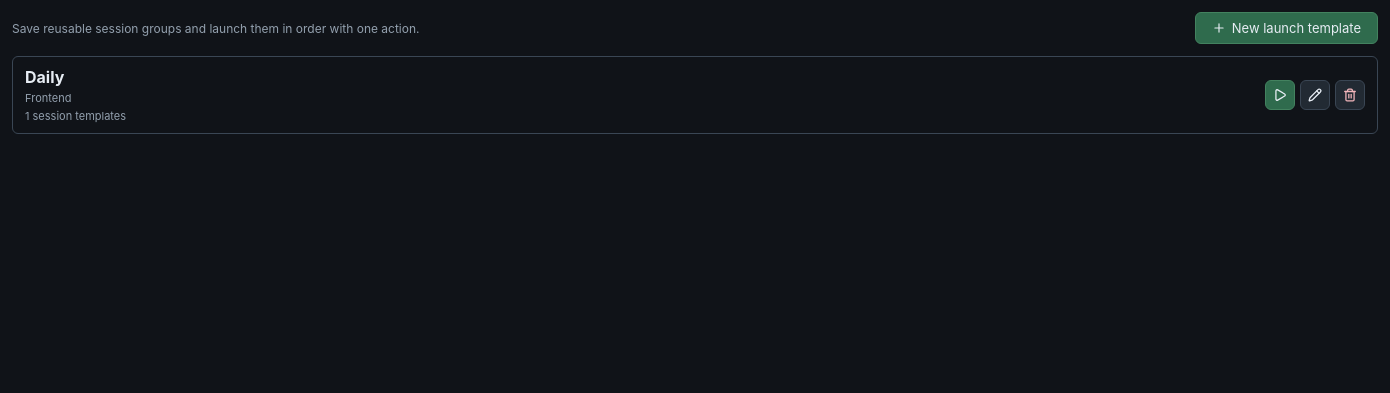
LaunchTemplatePanel › searches and clears session templates while editing
Click the button named "Edit session: Daily" at (1315, 95), box [1300,80,1330,110]
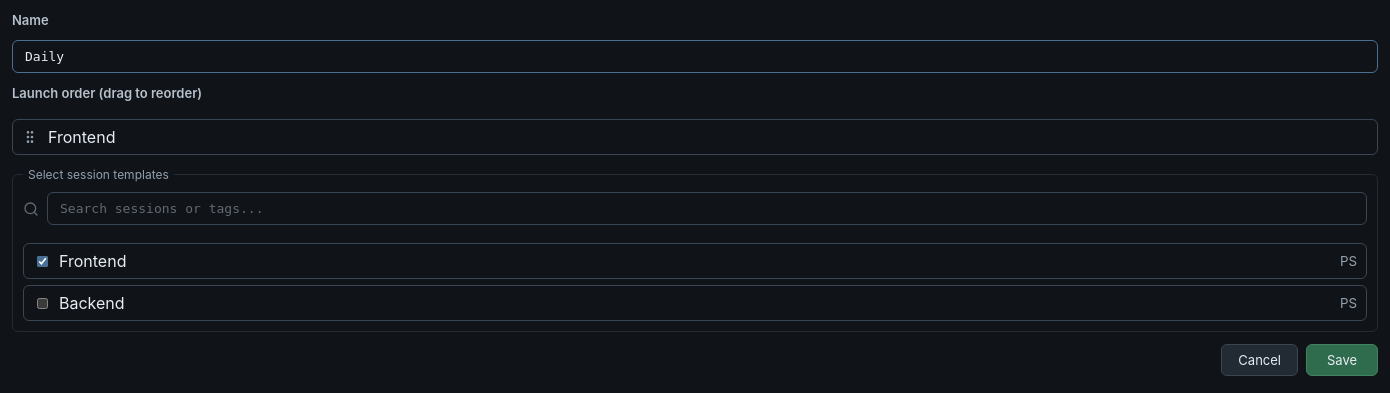
Type "missing" into the field with placeholder "Search sessions or tags..." at (707, 208), box [47,192,1367,225]
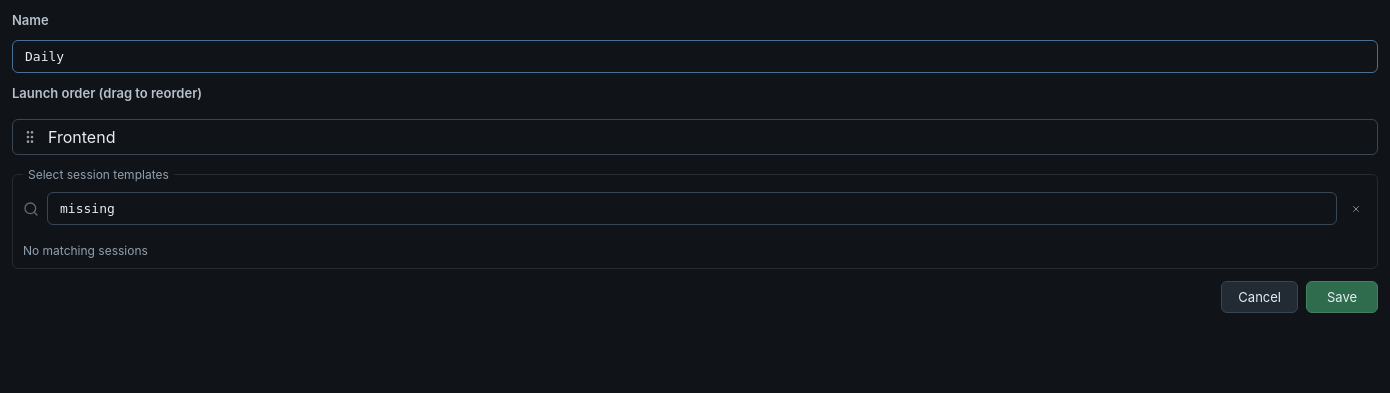
Expected: the text "No matching sessions" is shown, [23,243,148,258]
Click the button named "Clear search" at (1356, 208), box [1345,198,1367,220]
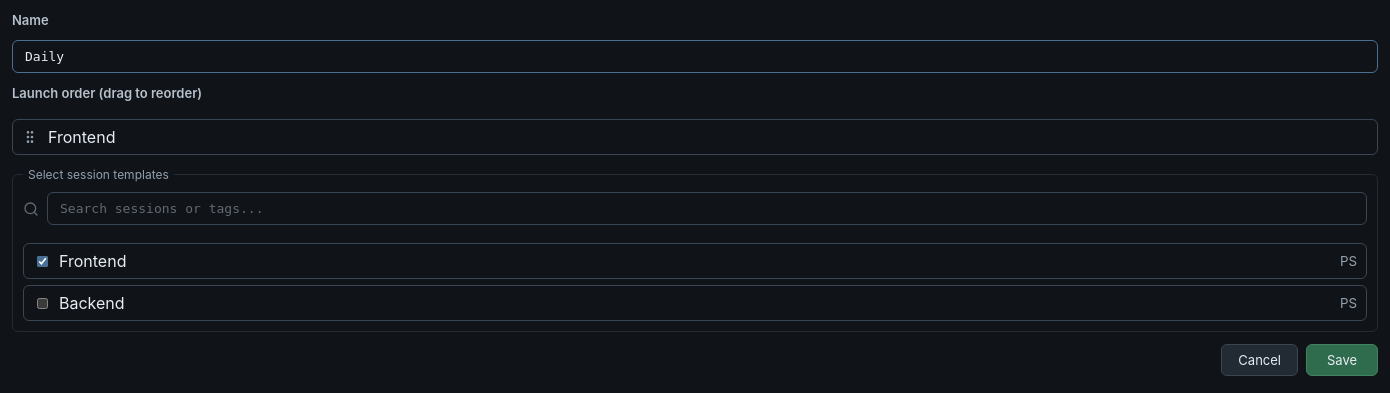
Expected: the checkbox labelled "Frontend PS" is shown, [37,254,48,268]
Expected: the checkbox labelled "Backend PS" is shown, [37,296,48,310]
